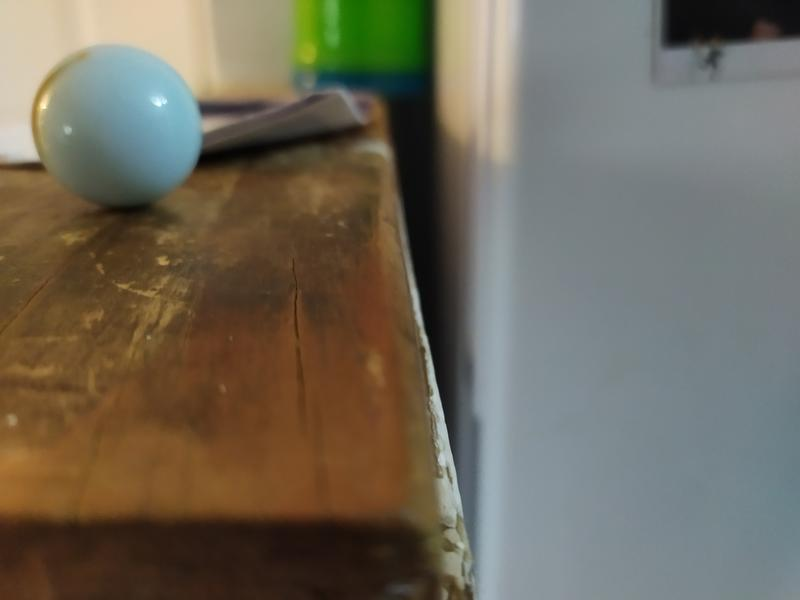Warning: (26, 36, 207, 212)
